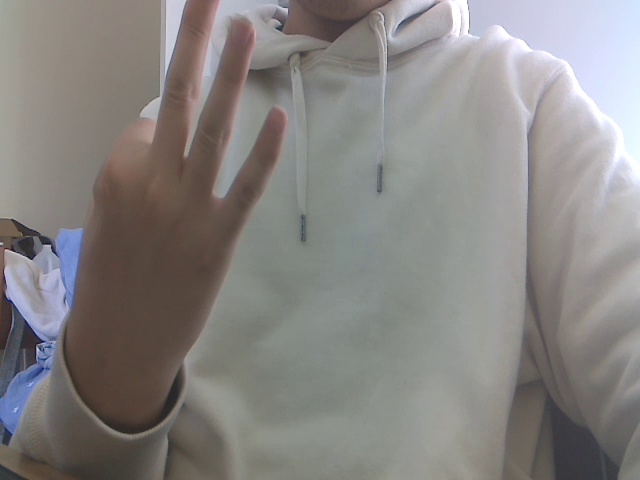hand_gesture_3: (56, 1, 297, 429)
